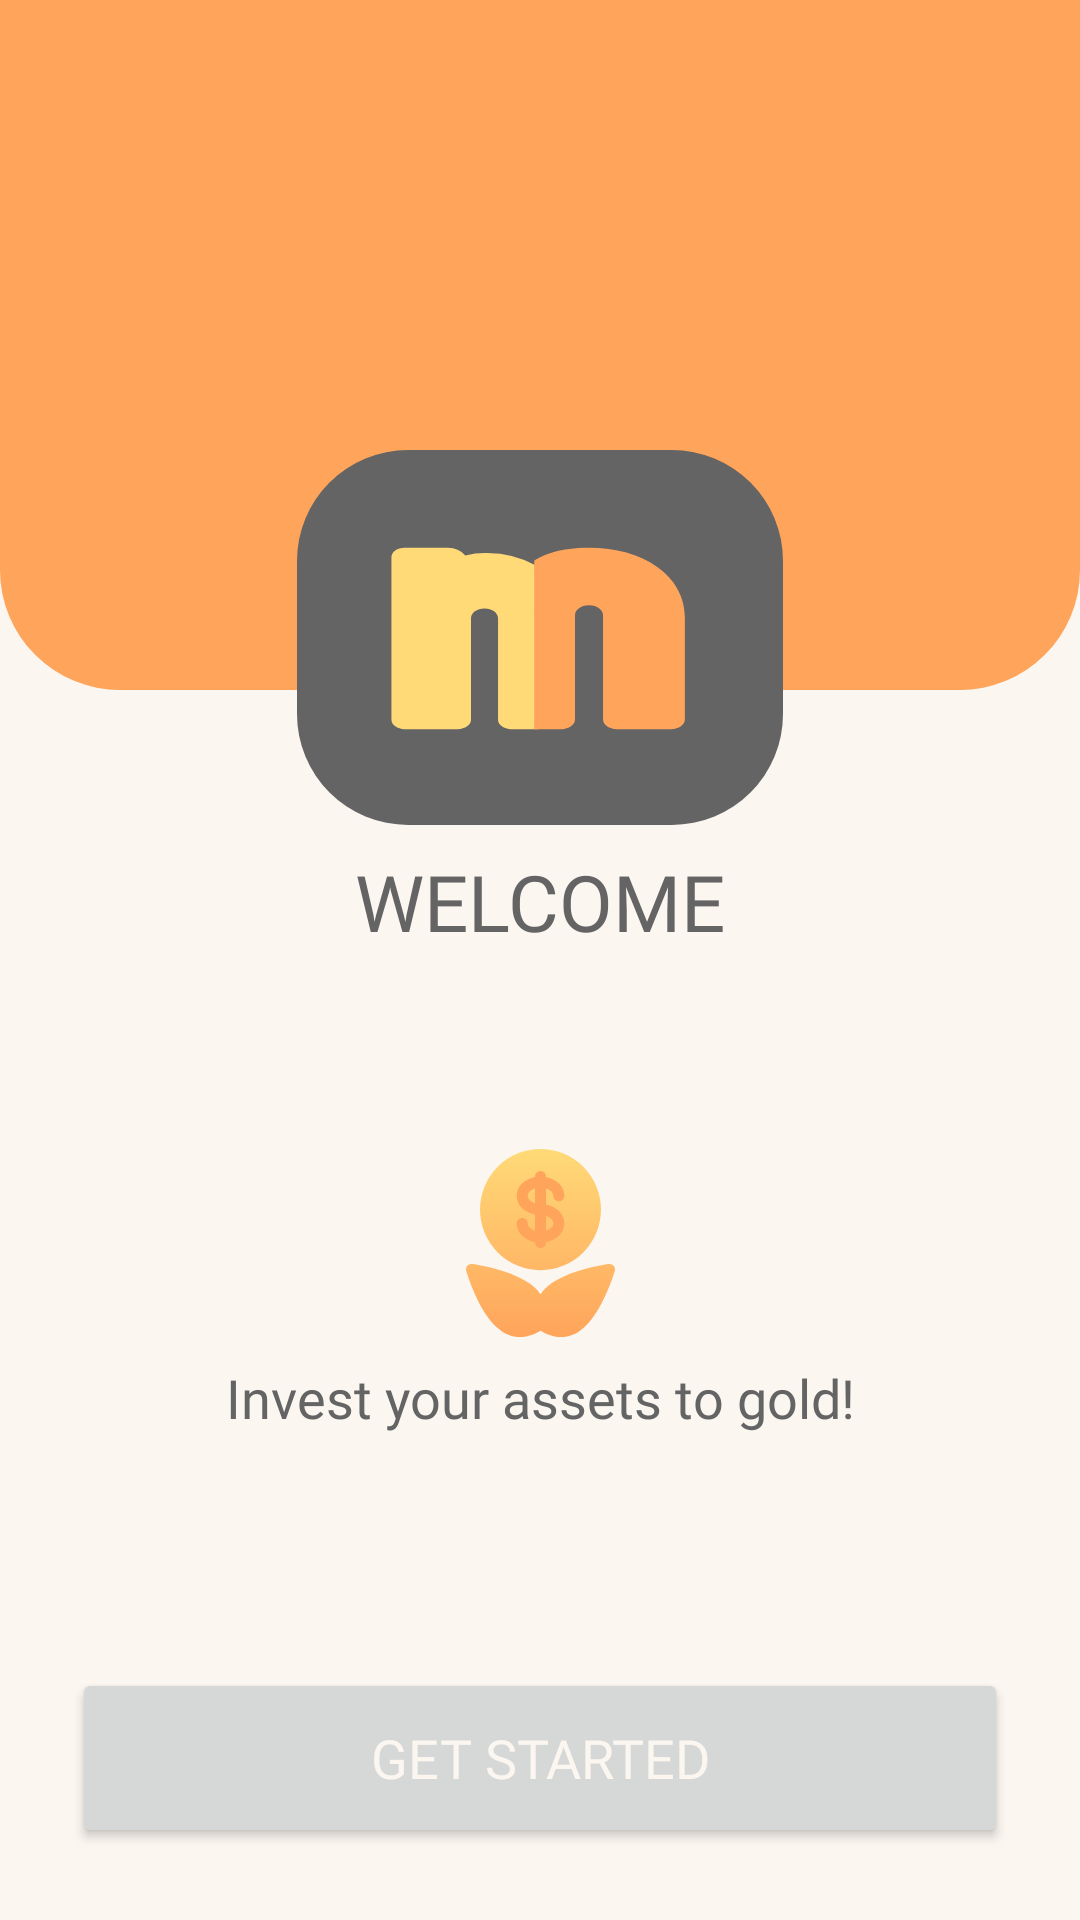

Point at icon controls on the screen. Image size 1080w x 1920h, points as (x,y).
investment: (540,1243)
